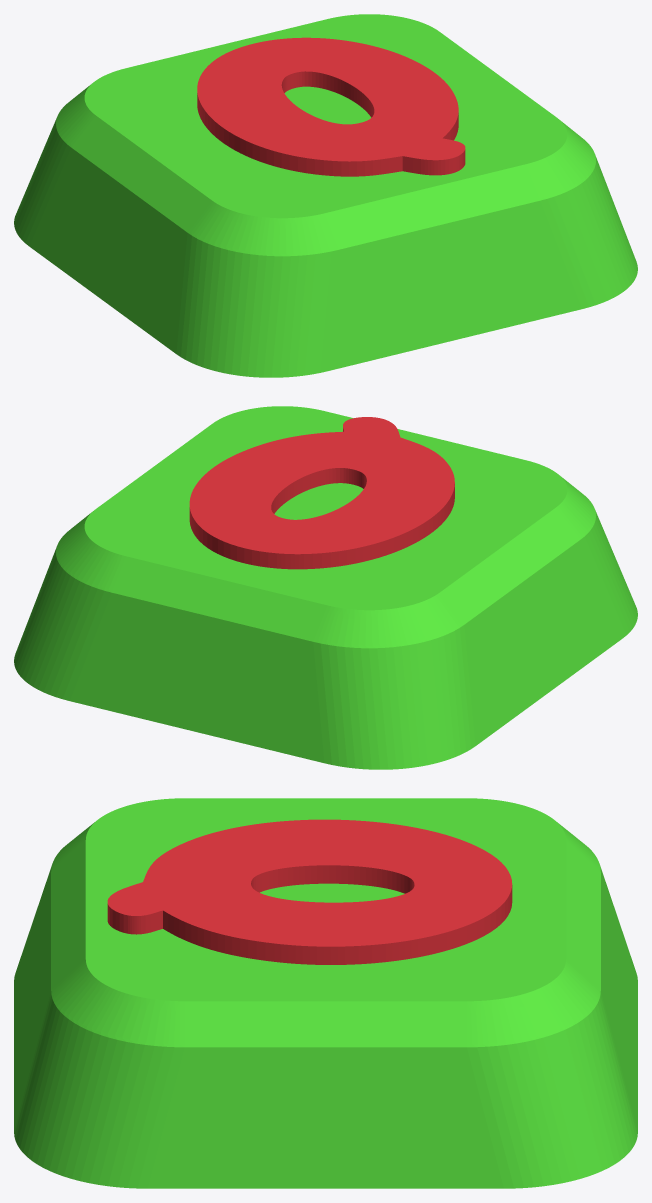
The picture shows the model from 3 angles, top to bottom: view 1: azimuth 30°, elevation 25°; view 2: azimuth 150°, elevation 25°; view 3: azimuth 270°, elevation 25°; orthographic projection. The views are drawn at different scales.
Parts seen in each view (by area): view 1: CAPS_Q, FONT_Q; view 2: CAPS_Q, FONT_Q; view 3: CAPS_Q, FONT_Q.
Boxes of the visible parts, x1,y1,x2,y2 form: CAPS_Q: [14, 14, 637, 377]; FONT_Q: [197, 37, 465, 176]; CAPS_Q: [14, 406, 637, 769]; FONT_Q: [189, 417, 454, 569]; CAPS_Q: [14, 798, 637, 1188]; FONT_Q: [107, 819, 512, 964].
Size of the model in its own units: 18 by 5.59 by 18.
